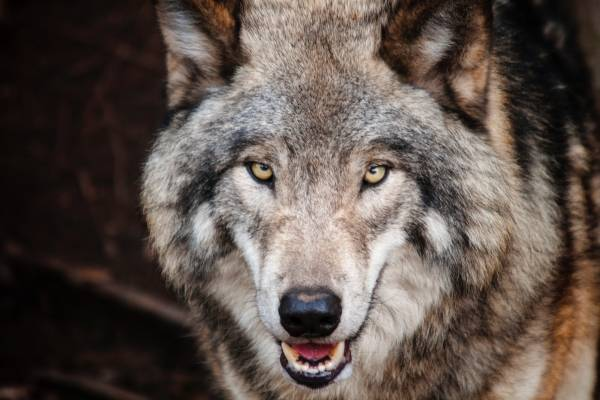Lobo: (142, 2, 514, 400)
